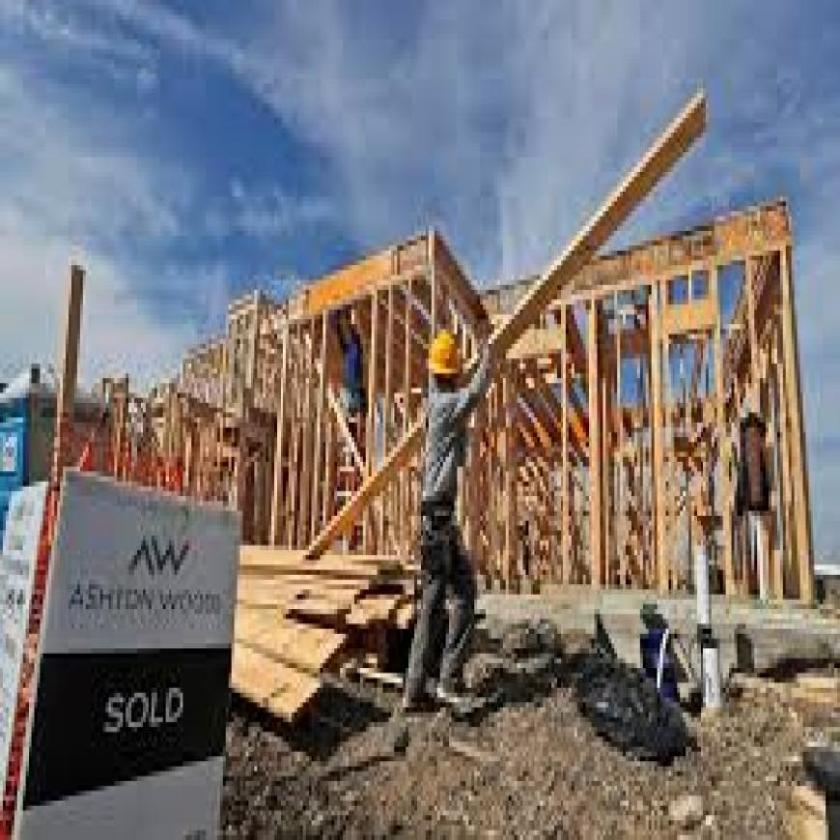Con_casco: (426, 324, 468, 395)
